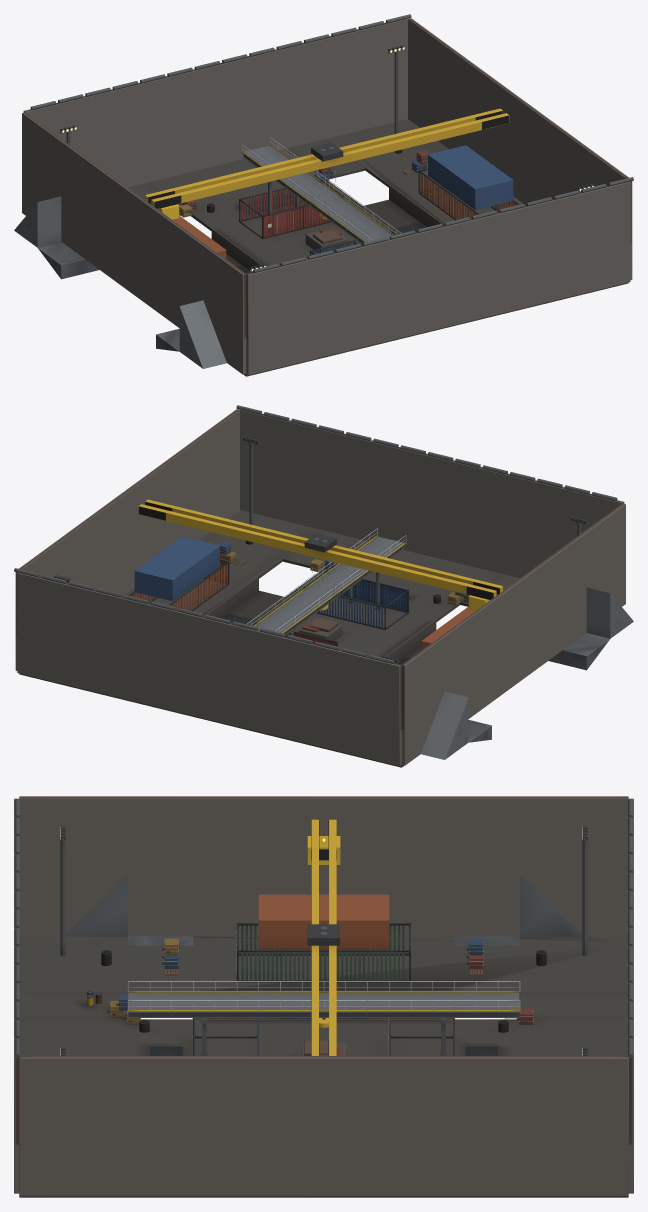
File: hd_junkflea.glb
3 views of the same model, one above another, from view 1: azimuth 30°, elevation 25°; view 2: azimuth 150°, elevation 25°; view 3: azimuth 270°, elevation 25° (orthographic). The views are drawn at different scales.
Visible parts, largest first — view 1: Boundary_Wall_South, Boundary_Wall_North, Boundary_Wall_West, Boundary_Wall_East, Yard_Floor_Center, Yard_Floor_East, Crane_Girder_312_Detail, Container_Stacked_E_Detail_Detail, Bridge_Deck_Plates, Bridge_Ramp_South, Crane_Girder_328_Detail, Bridge_Ramp_North (+9 smaller); view 2: Boundary_Wall_North, Boundary_Wall_South, Boundary_Wall_West, Boundary_Wall_East, Yard_Floor_Center, Yard_Floor_East, Crane_Girder_328_Detail, Container_Stacked_E_Detail_Detail, Bridge_Deck_Plates, Bridge_Ramp_North, Crane_Girder_312_Detail, Bridge_Ramp_South (+9 smaller); view 3: Boundary_Wall_East, Boundary_Wall_West, Yard_Floor_West, Yard_Floor_Center, Bridge_Deck_Plates, Container_Stacked_W_Detail_Detail, Yard_Cross_N_W, Yard_Cross_S_W, Bridge_Ramp_South, Bridge_Ramp_North, Perimeter_Corrugation_W_Detail, Crane_Girder_312_Detail (+15 smaller).
Part boxes in pixels (left/top/right/bottom): Boundary_Wall_South: left=246, top=181, right=630, bottom=375; Boundary_Wall_North: left=23, top=18, right=407, bottom=187; Boundary_Wall_West: left=22, top=112, right=246, bottom=374; Boundary_Wall_East: left=408, top=18, right=632, bottom=279; Yard_Floor_Center: left=149, top=149, right=505, bottom=346; Yard_Floor_East: left=326, top=119, right=628, bottom=303; Crane_Girder_312_Detail: left=151, top=113, right=509, bottom=208; Container_Stacked_E_Detail_Detail: left=428, top=145, right=513, bottom=210; Bridge_Deck_Plates: left=243, top=145, right=392, bottom=241; Bridge_Ramp_South: left=179, top=300, right=226, bottom=368; Crane_Girder_328_Detail: left=145, top=108, right=502, bottom=201; Bridge_Ramp_North: left=14, top=196, right=61, bottom=247; Boundary_Wall_North: left=17, top=572, right=401, bottom=766; Boundary_Wall_South: left=240, top=409, right=624, bottom=578; Boundary_Wall_West: left=401, top=503, right=625, bottom=765; Boundary_Wall_East: left=15, top=409, right=239, bottom=670; Yard_Floor_Center: left=142, top=540, right=498, bottom=737; Yard_Floor_East: left=19, top=510, right=321, bottom=694; Crane_Girder_328_Detail: left=138, top=504, right=496, bottom=599; Container_Stacked_E_Detail_Detail: left=134, top=536, right=219, bottom=601; Bridge_Deck_Plates: left=255, top=536, right=404, bottom=632; Bridge_Ramp_North: left=421, top=691, right=468, bottom=759; Crane_Girder_312_Detail: left=145, top=499, right=502, bottom=592; Bridge_Ramp_South: left=586, top=587, right=633, bottom=638; Boundary_Wall_East: left=19, top=1057, right=628, bottom=1195; Boundary_Wall_West: left=19, top=796, right=628, bottom=936; Yard_Floor_West: left=19, top=936, right=628, bottom=992; Yard_Floor_Center: left=19, top=1019, right=628, bottom=1055; Bridge_Deck_Plates: left=128, top=993, right=519, bottom=1012; Container_Stacked_W_Detail_Detail: left=258, top=894, right=389, bottom=949; Yard_Cross_N_W: left=519, top=991, right=628, bottom=1019; Yard_Cross_S_W: left=19, top=991, right=128, bottom=1019; Bridge_Ramp_South: left=65, top=874, right=128, bottom=936; Bridge_Ramp_North: left=519, top=874, right=582, bottom=936; Perimeter_Corrugation_W_Detail: left=19, top=796, right=628, bottom=798; Crane_Girder_312_Detail: left=311, top=819, right=318, bottom=1055.
Size of what is drawn, in the model's own units: 182 by 50.55 by 171.
